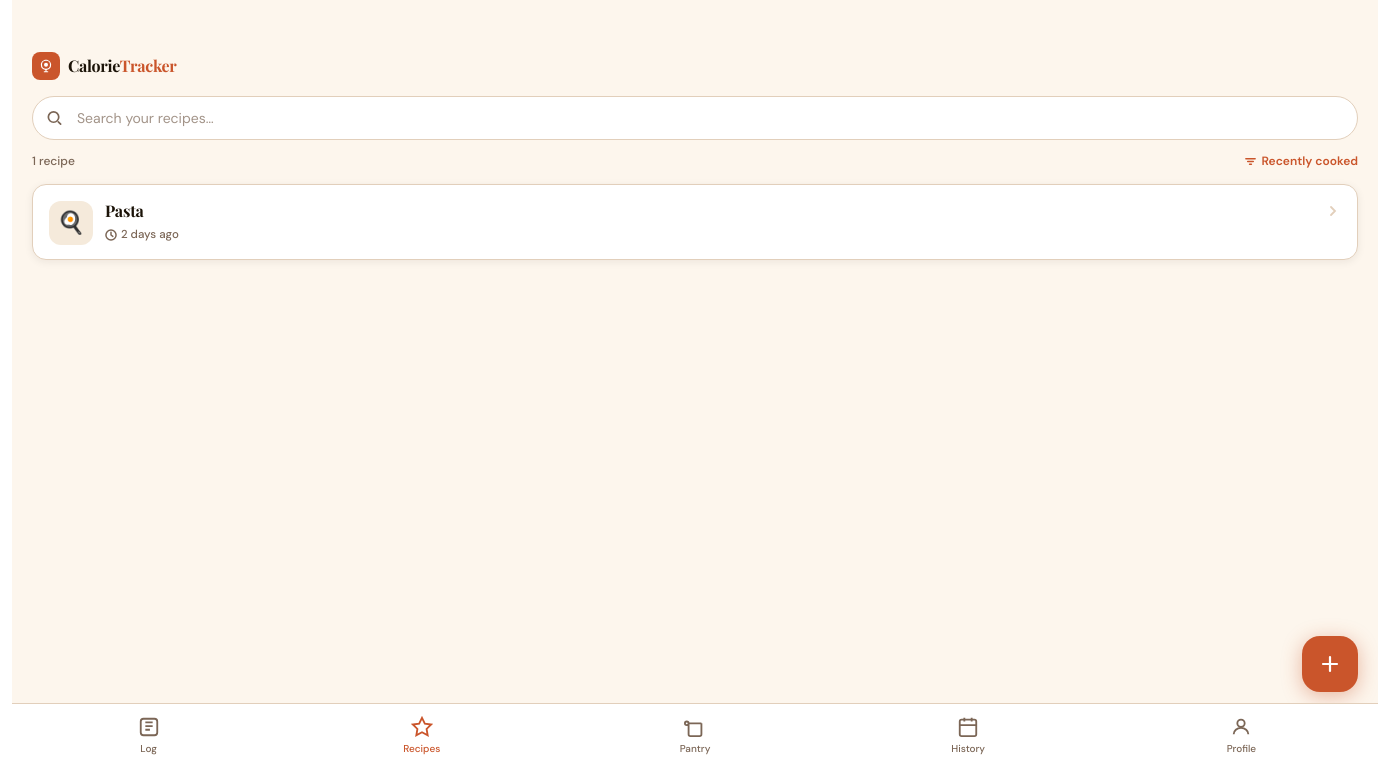
Scenario: RecipeListPage — search › shows 'no recipes matching' empty state when search has no results
Expected: the text "Pasta" is shown, [105,200,144,221]
Type "zzz" into the field named "search recipes" at (695,118), box [32,96,1358,140]
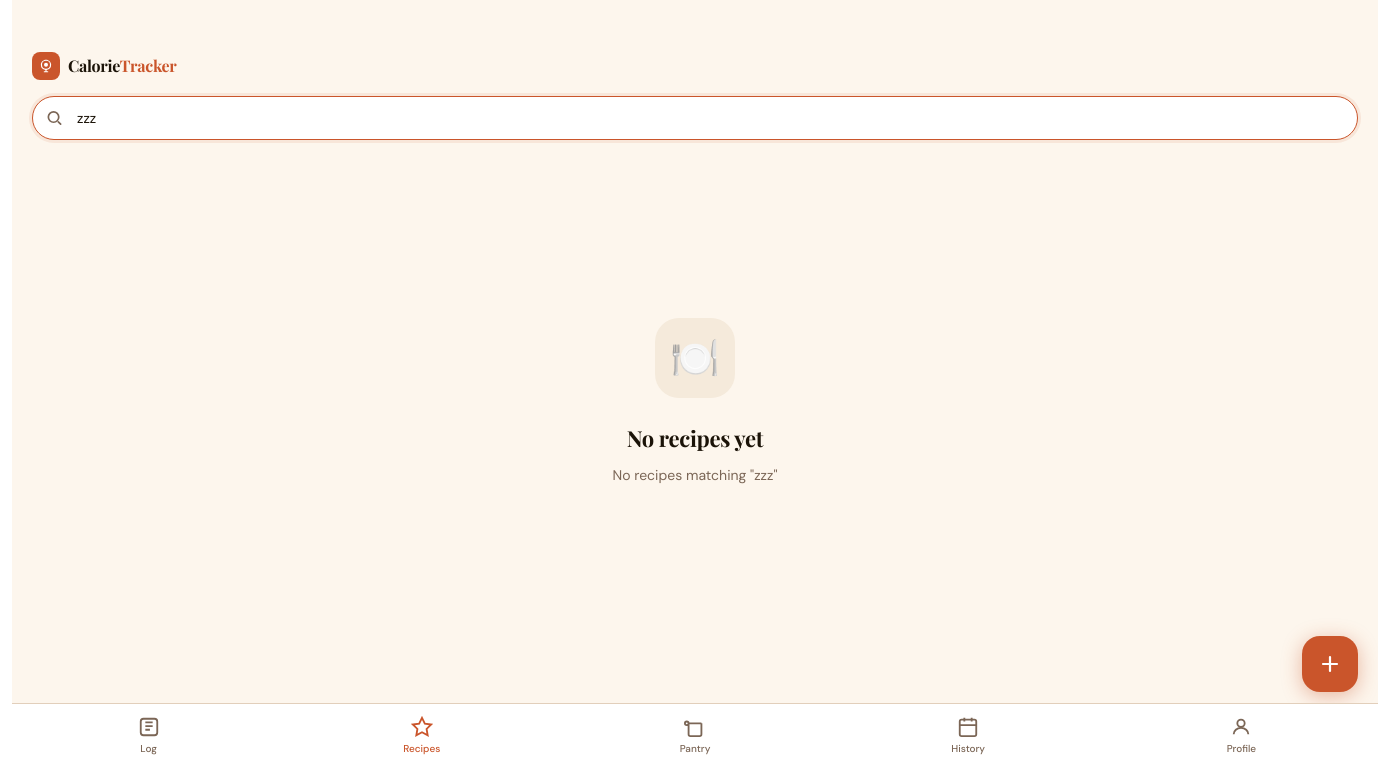
Expected: the text "No recipes matching \"zzz\"" is shown, [612,465,778,486]
